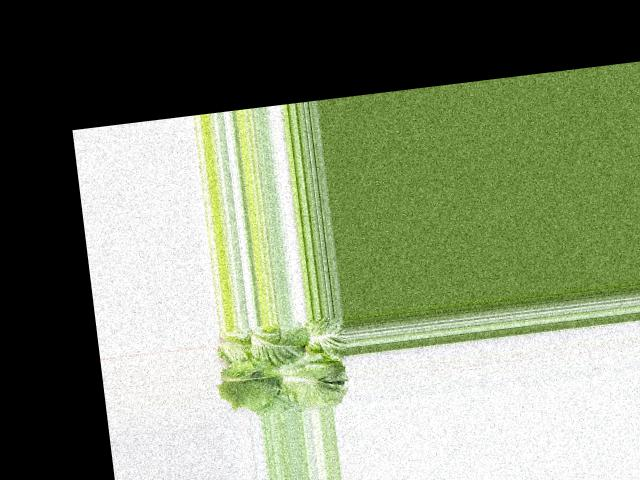lettuce: (214, 315, 351, 418)
